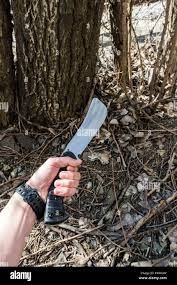knife: (44, 93, 108, 223)
